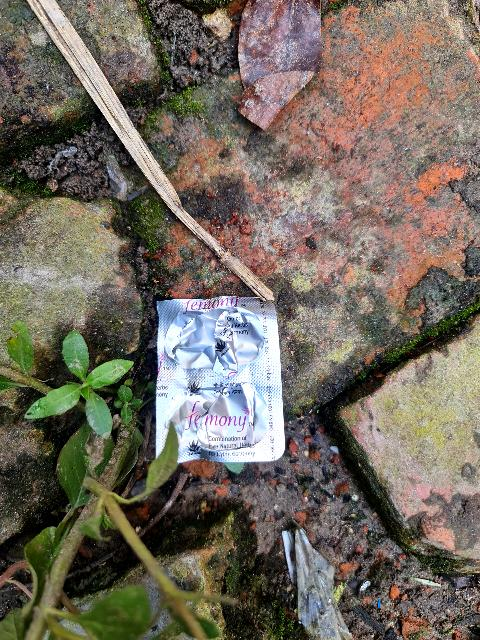medicine: (135, 279, 301, 467)
